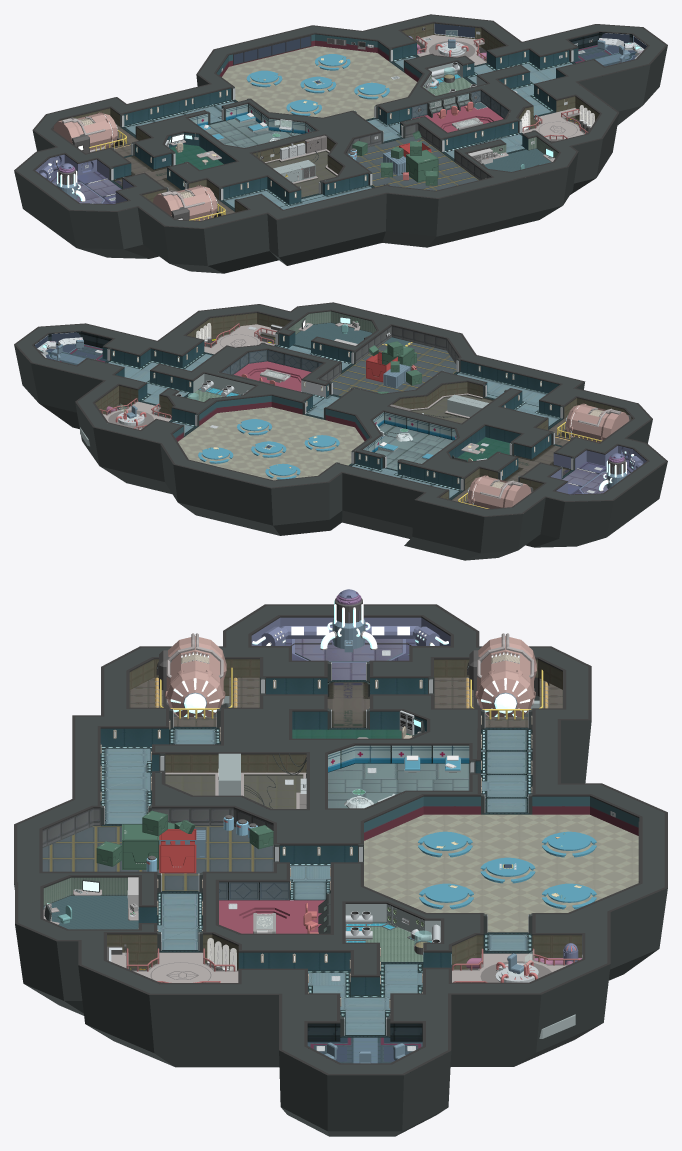
File: among_us_-_map_the_skeld.glb
The picture shows the model from 3 angles, top to bottom: view 1: azimuth 30°, elevation 25°; view 2: azimuth 150°, elevation 25°; view 3: azimuth 270°, elevation 25°; orthographic projection. The views are drawn at different scales.
Parts seen in each view (by area): view 1: 0080_DarkC, Model, Color_M08, paredes_me, pared_escu, _Color_B05, Color_I07, Color_I04, Translucen, Color_C03, piso_textu, pared_cafe (+21 smaller); view 2: 0080_DarkC, Model, Color_M08, paredes_me, pared_escu, _Color_B05, Color_I07, pared_cafe, pared_alma, Color_J01, Color_I04, Color_I06 (+18 smaller); view 3: 0080_DarkC, Model, Color_M08, paredes_me, pared_escu, _Color_B05, piso_tex01, Color_I07, piso_pasil, pared_cafe, motores_pi, piso_tex03 (+20 smaller).
Boxes of the visible parts, x1,y1,x2,y2 form: 0080_DarkC: [14, 15, 667, 273]; Model: [59, 32, 647, 197]; Color_M08: [14, 14, 667, 228]; paredes_me: [113, 43, 578, 204]; pared_escu: [53, 23, 599, 212]; _Color_B05: [53, 113, 487, 220]; Color_I07: [246, 54, 389, 115]; Color_I04: [55, 27, 644, 200]; Translucen: [233, 23, 646, 83]; Color_C03: [417, 35, 583, 139]; piso_textu: [210, 63, 572, 206]; pared_cafe: [216, 34, 422, 81]; 0080_DarkC: [14, 303, 667, 560]; Model: [34, 311, 624, 480]; Color_M08: [14, 302, 667, 516]; paredes_me: [102, 332, 560, 489]; pared_escu: [95, 313, 632, 499]; _Color_B05: [468, 404, 629, 508]; Color_I07: [198, 419, 339, 479]; pared_cafe: [173, 395, 369, 441]; pared_alma: [320, 326, 458, 381]; Color_J01: [80, 373, 622, 460]; Color_I04: [37, 325, 626, 493]; Color_I06: [550, 445, 646, 493]; 0080_DarkC: [14, 605, 667, 1136]; Model: [42, 592, 638, 1063]; Color_M08: [14, 604, 667, 1075]; paredes_me: [100, 678, 480, 995]; pared_escu: [107, 659, 581, 970]; _Color_B05: [166, 636, 536, 716]; piso_tex01: [100, 729, 532, 950]; Color_I07: [418, 831, 596, 909]; piso_pasil: [290, 730, 532, 900]; pared_cafe: [364, 796, 639, 840]; motores_pi: [129, 677, 562, 727]; piso_tex03: [100, 746, 526, 941].
Bounding box in the file's own units: 8.44 × 1.05 × 4.95.
93 materials, 44 textured.
